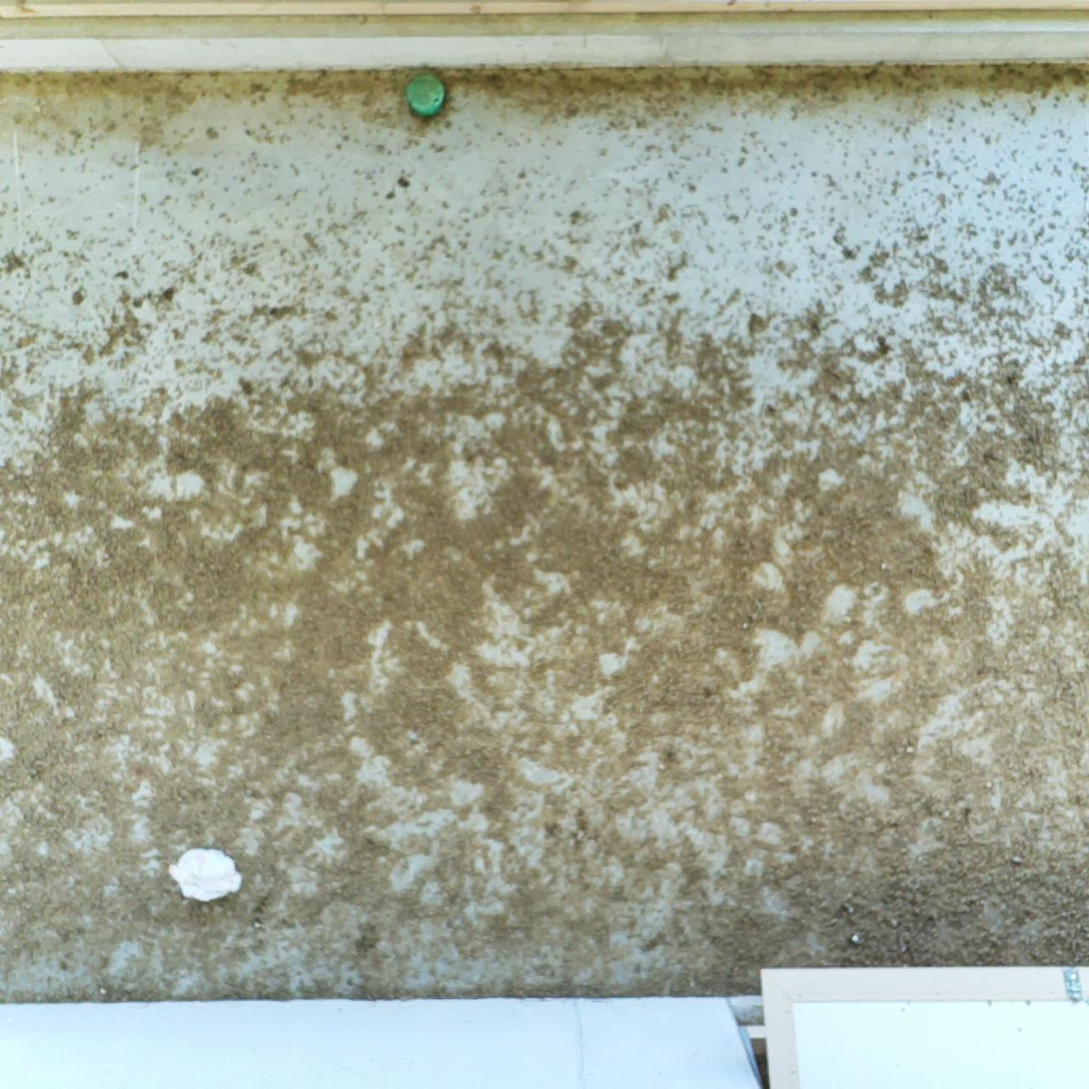chicken: (164, 844, 249, 908)
